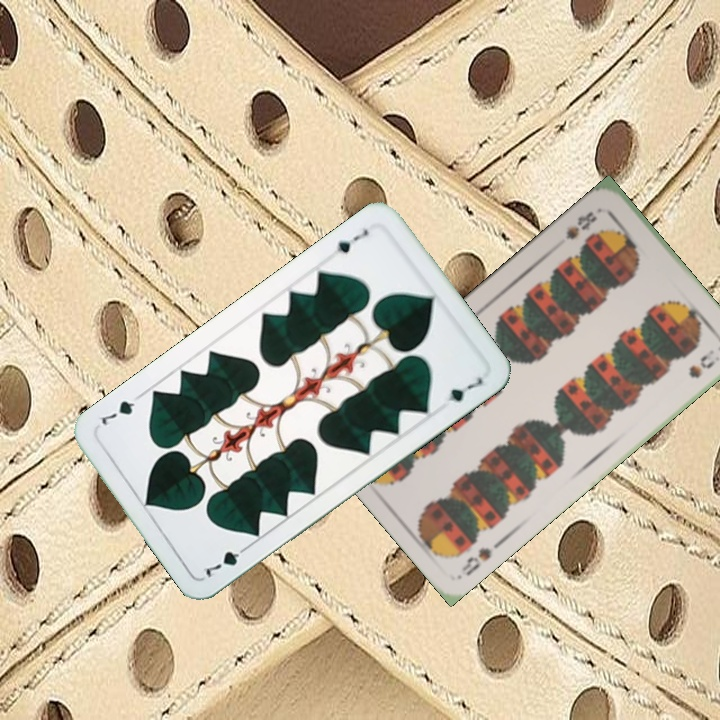G7: (201, 540, 253, 581), (332, 224, 371, 256)
S8: (562, 207, 600, 243), (457, 543, 494, 579)
